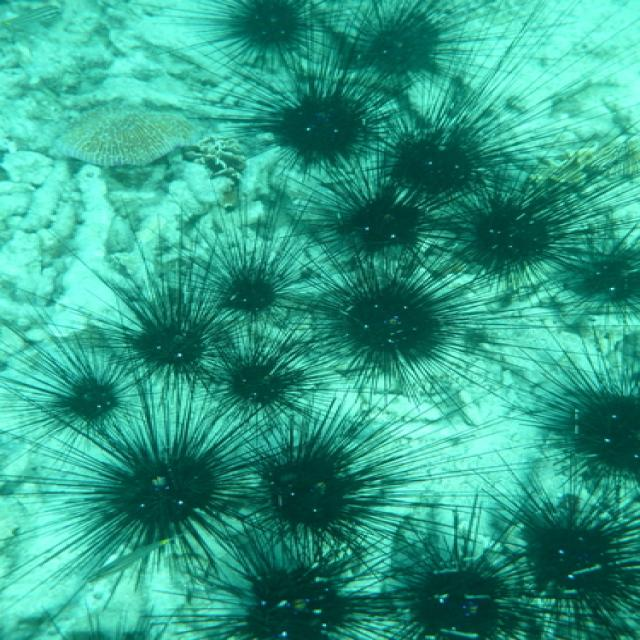Urchin: (26, 384, 258, 586), (278, 236, 533, 410), (357, 52, 611, 208), (217, 403, 435, 557), (66, 201, 235, 387), (423, 153, 610, 310), (457, 480, 640, 640), (189, 51, 413, 181), (286, 144, 484, 290), (479, 326, 640, 497), (192, 519, 411, 640), (166, 182, 326, 336), (363, 512, 548, 640), (309, 1, 577, 82), (2, 294, 148, 434), (181, 314, 329, 430), (147, 1, 363, 77), (525, 223, 640, 324)
